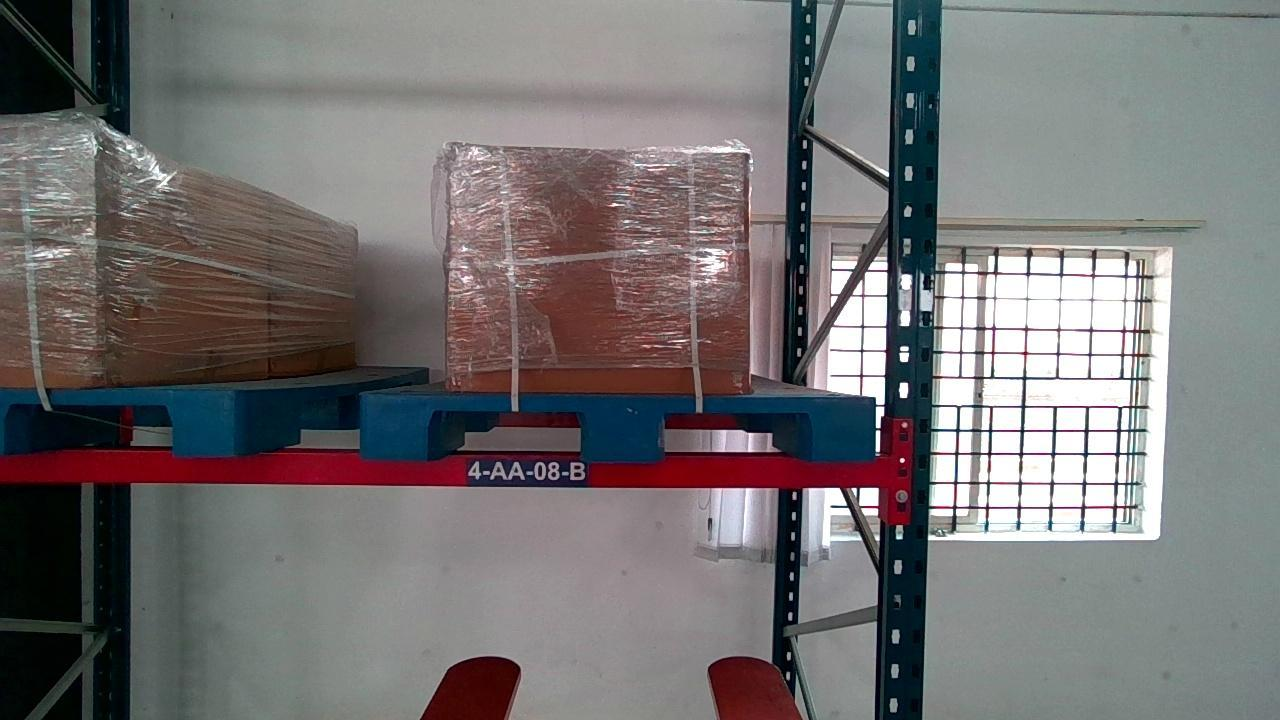h_rack: (0, 450, 896, 486)
small_pallet: (361, 394, 875, 460), (0, 386, 239, 453)
